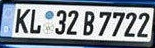character: (14, 8, 29, 34), (111, 11, 125, 36), (123, 12, 137, 37), (136, 12, 150, 37), (65, 9, 78, 35), (98, 11, 111, 36), (82, 10, 94, 35), (29, 8, 40, 34), (54, 9, 65, 34)
